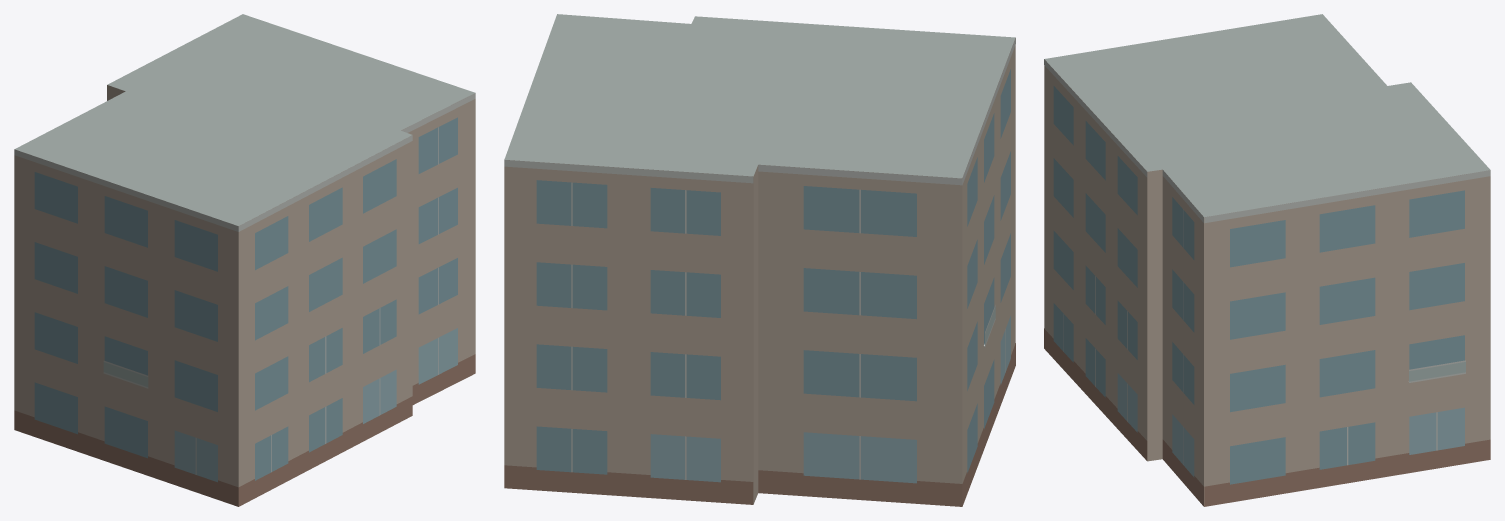
The model's file is survey-upis-32549010.glb.
The picture shows the model from 3 angles, left to right: view 1: azimuth 30°, elevation 25°; view 2: azimuth 150°, elevation 25°; view 3: azimuth 270°, elevation 25°; orthographic projection. The views are drawn at different scales.
Visible parts, largest first — view 1: survey-upis-32549010.tmp; view 2: survey-upis-32549010.tmp; view 3: survey-upis-32549010.tmp.
Part boxes in pixels (bbox=[...]): survey-upis-32549010.tmp: bbox=[14, 14, 475, 506]; survey-upis-32549010.tmp: bbox=[504, 14, 1015, 506]; survey-upis-32549010.tmp: bbox=[1044, 14, 1490, 506].
Size of the model in its own units: 17.62 by 11.7 by 16.36.
